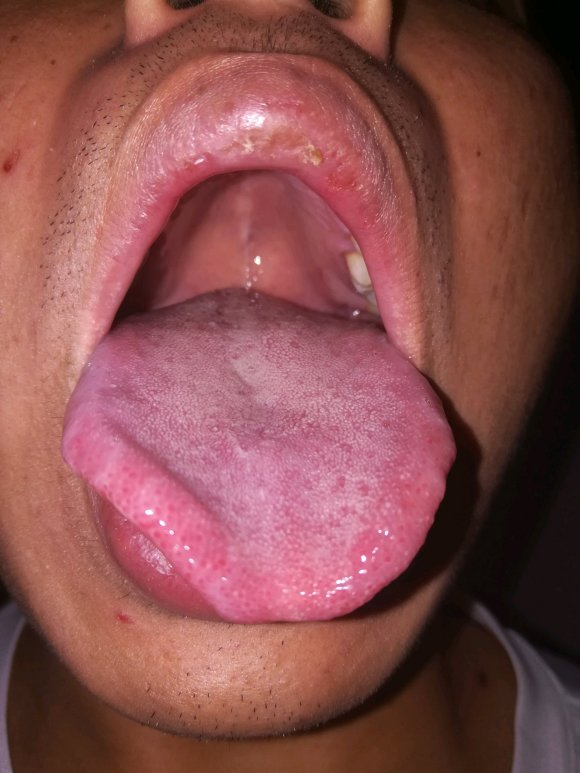baitaishe: (62, 286, 455, 622)
hongshe: (62, 286, 455, 622)
